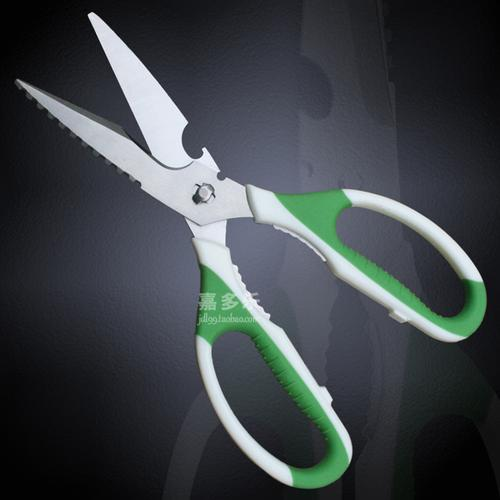scissor: (15, 10, 487, 488)
